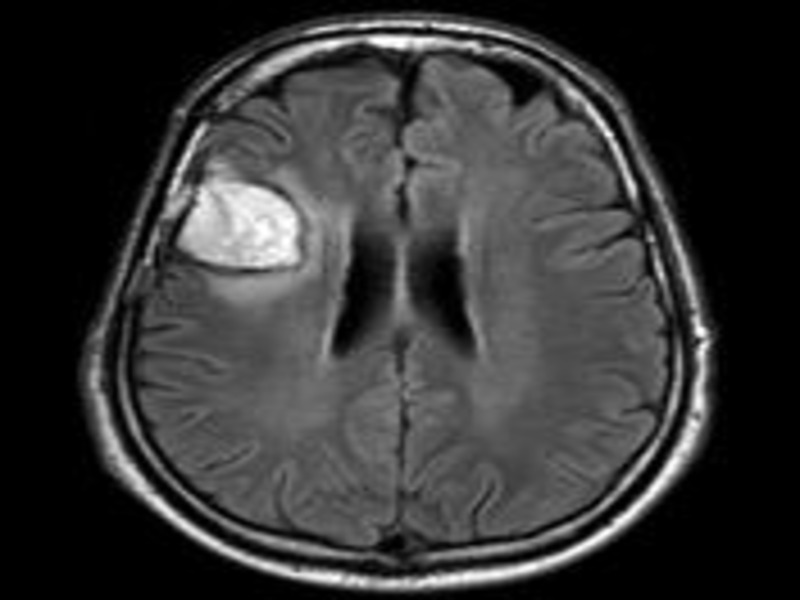tumor: (166, 174, 316, 281)
